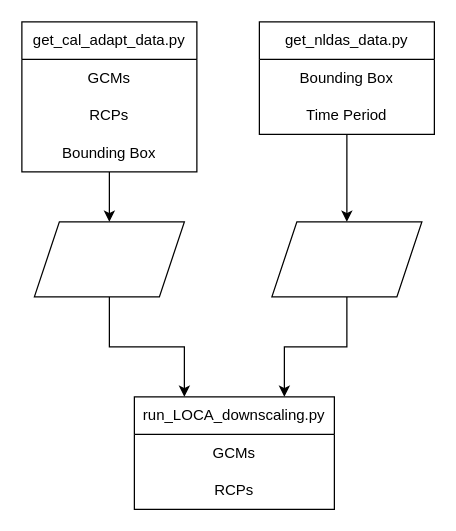
Image size: 456x531. Some labels were removed from this diagram. Here are the shapes that lost their labels. From the top down, the centre of each, then its label:
pixel 108 259: Daily CalAdapt GCM Precip
pixel 346 259: Hourly NLDAS Precip
